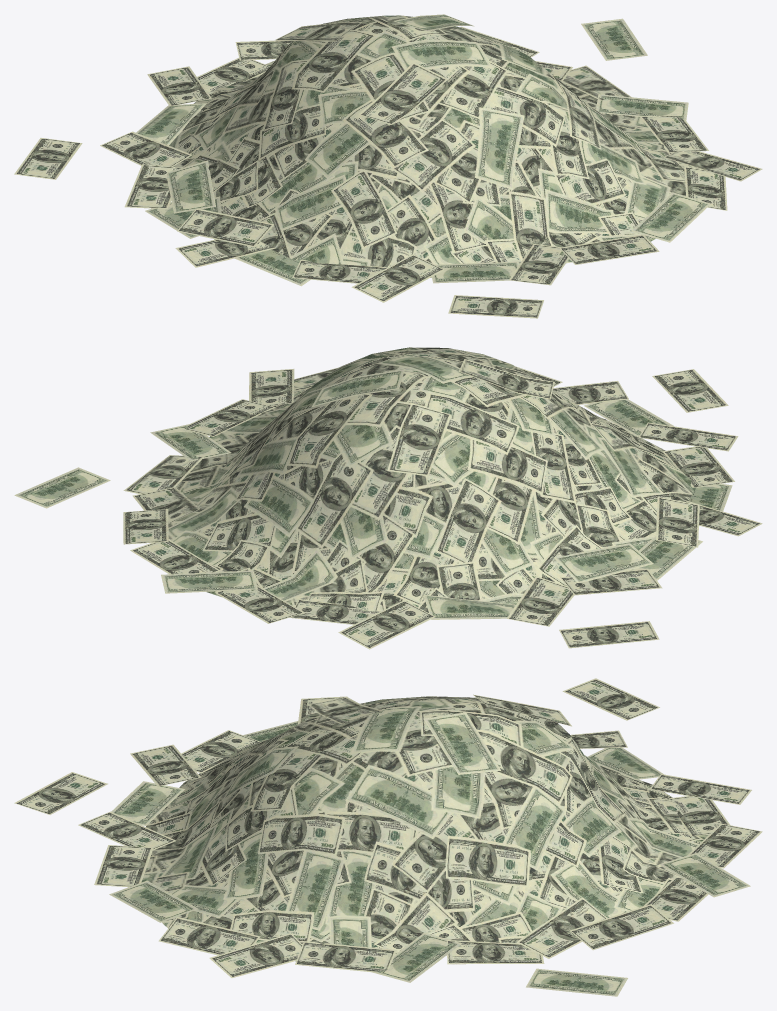
Rendered from cash_pile.glb.
3 views of the same model, one above another, from view 1: azimuth 30°, elevation 25°; view 2: azimuth 150°, elevation 25°; view 3: azimuth 270°, elevation 25° (orthographic). The views are drawn at different scales.
Parts seen in each view (by area): view 1: cash_pile; view 2: cash_pile; view 3: cash_pile.
Part boxes in pixels (x1=…): cash_pile: x1=14, y1=14, x2=762, y2=318; cash_pile: x1=14, y1=347, x2=762, y2=649; cash_pile: x1=14, y1=678, x2=762, y2=996.
Bounding box in the file's own units: 1.2 × 0.2412 × 1.21.
1 material, 1 textured.
